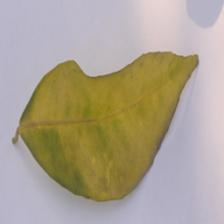greening: (9, 37, 204, 207)
